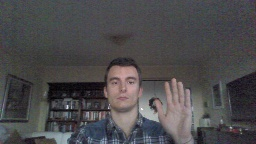Mano_aperta: (153, 76, 193, 142)
